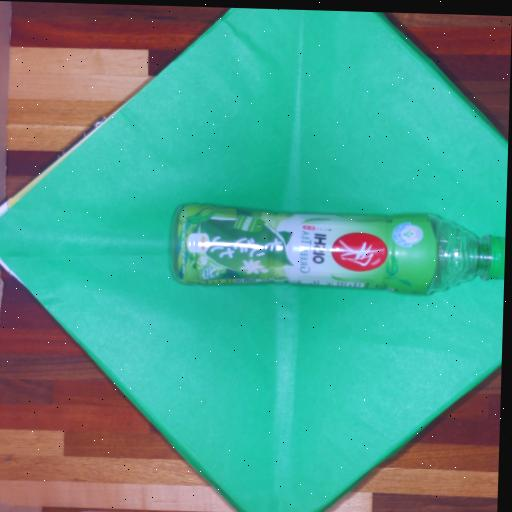bottle: (172, 205, 504, 294)
